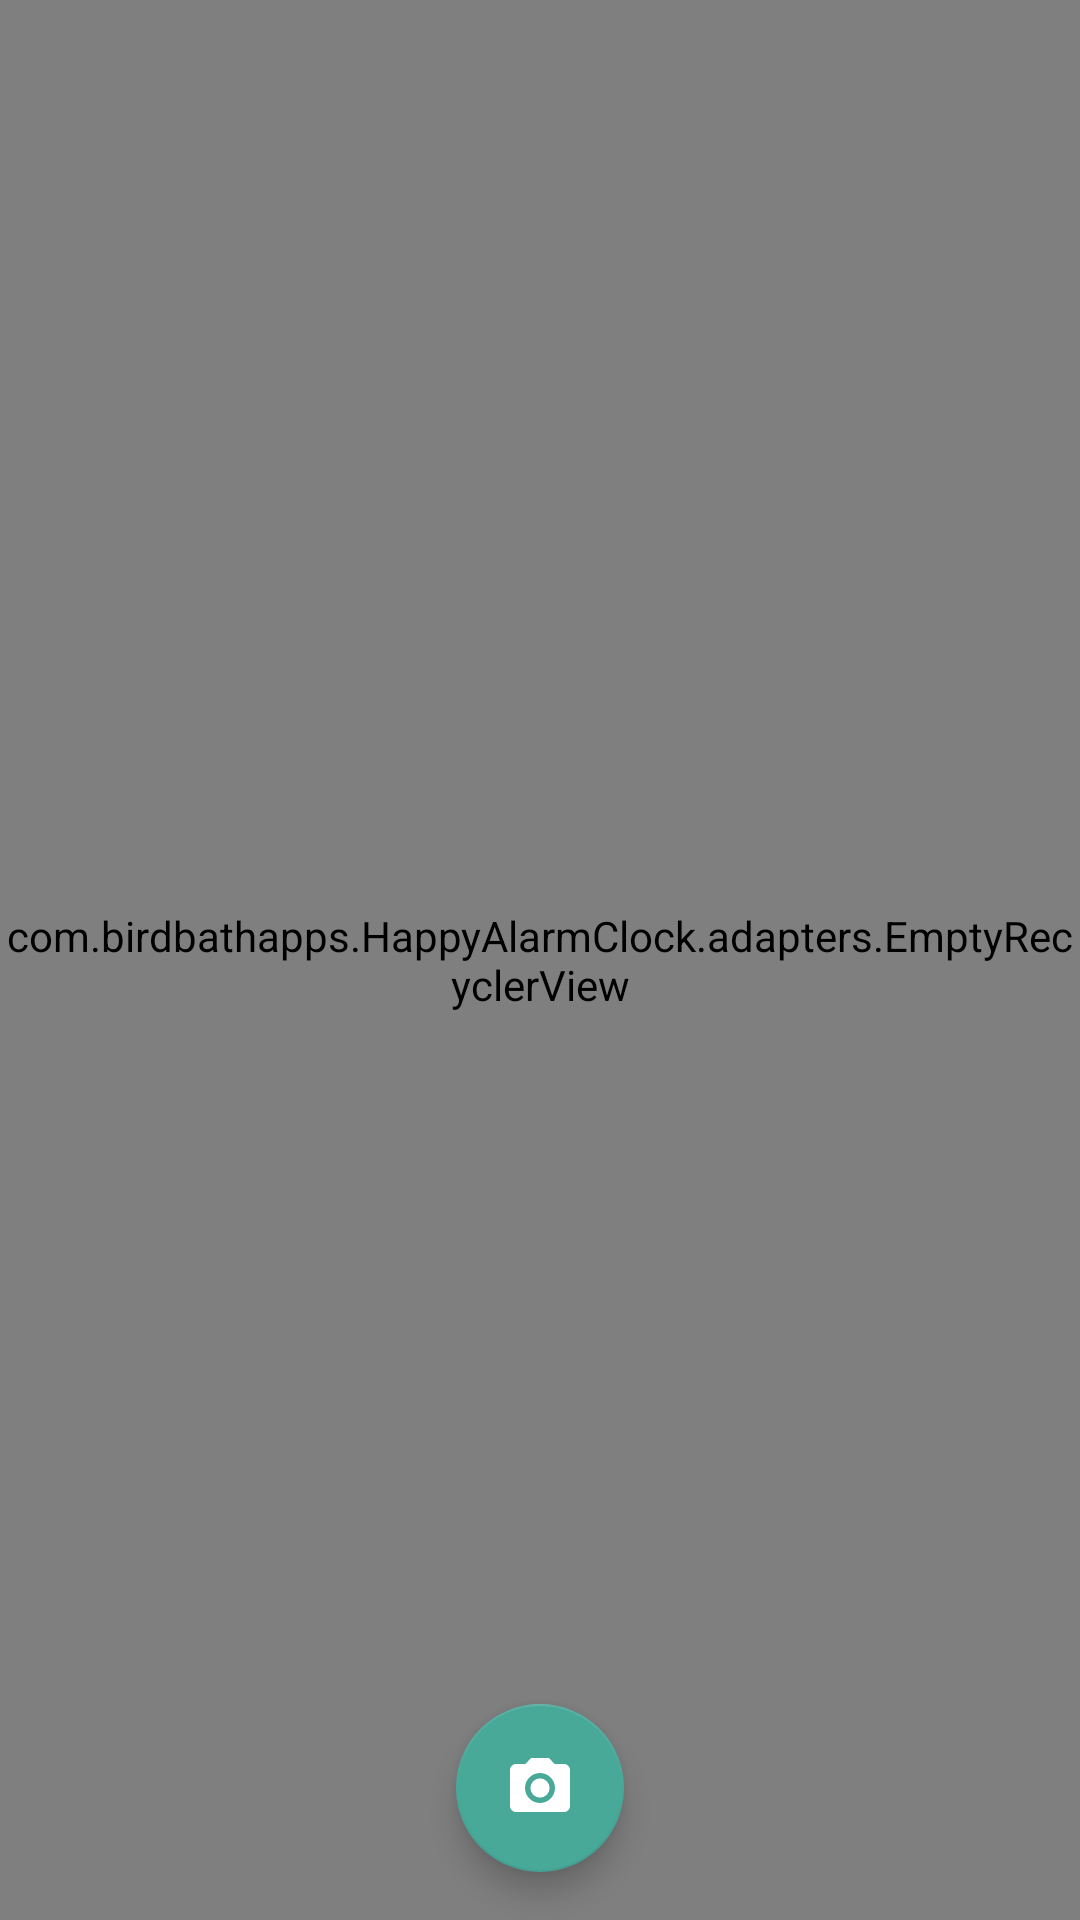

Screen size 1080 x 1920. Icon name, then its box in pixels as bbox=(x1, y1, x2, y2):
camera: bbox=(456, 1704, 624, 1872)
